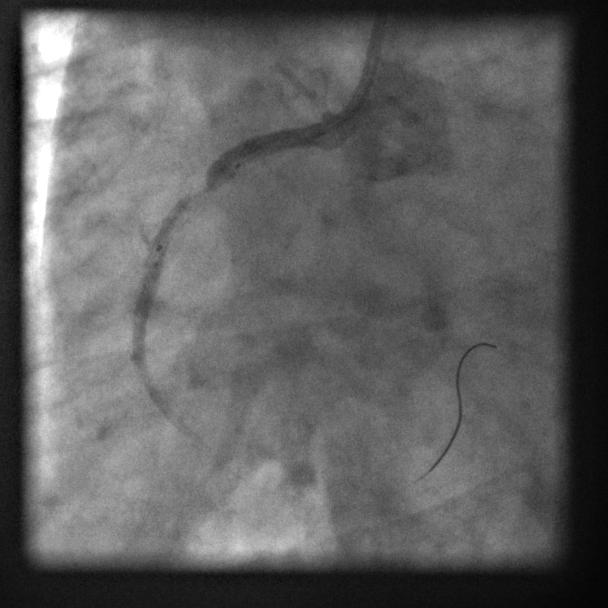Stenosis: (179, 160, 225, 218)
